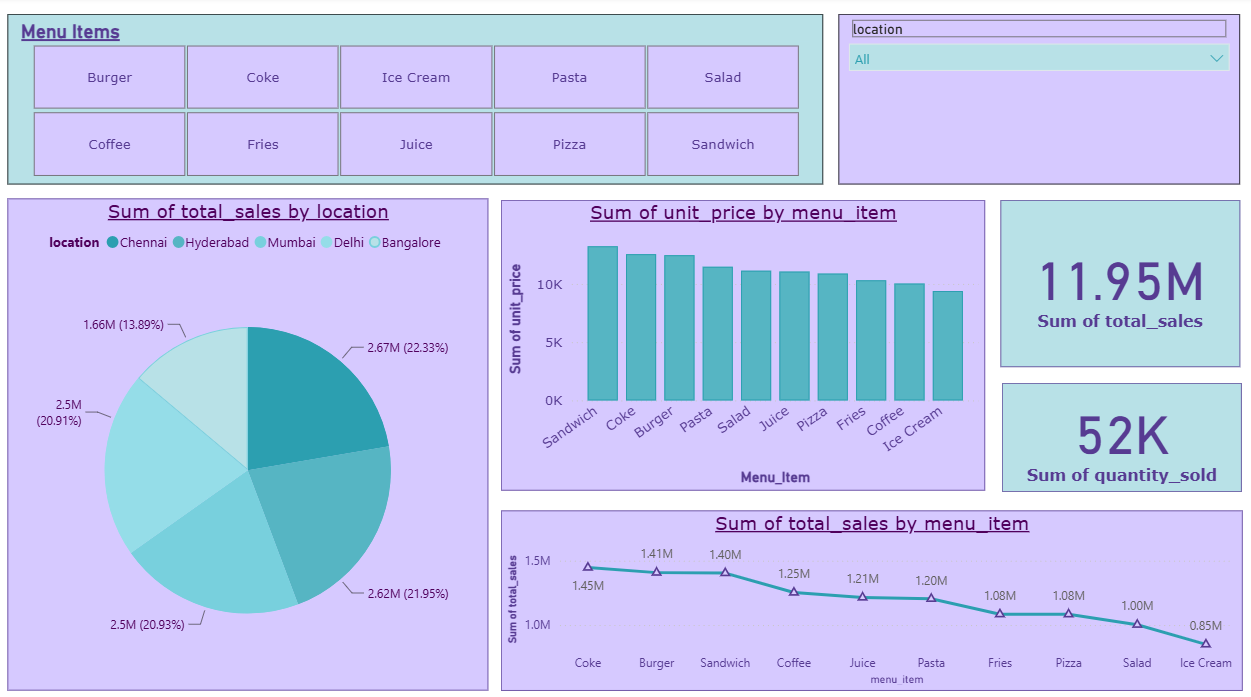

The page's visual inventory and layout, read from the dashboard file:
{"tool":"powerbi","page":{"name":"Page 1","canvas":[1280,720],"ordinal":0},"visuals":[{"type":"columnChart","fields":{"Category":["fnb_analytics restaurant_sales.menu_item"],"Y":["Sum(fnb_analytics restaurant_sales.unit_price)"]},"box":[508.3,206.7,488.3,293.3],"z":0},{"type":"lineChart","fields":{"Category":["fnb_analytics restaurant_sales.menu_item"],"Y":["Sum(fnb_analytics restaurant_sales.total_sales)"]},"box":[508.3,520,748.3,181.7],"z":1000},{"type":"pieChart","fields":{"Category":["fnb_analytics restaurant_sales.location"],"Y":["Sum(fnb_analytics restaurant_sales.total_sales)"]},"box":[10,205,485,496.7],"z":2000},{"type":"card","fields":{"Values":["Sum(fnb_analytics restaurant_sales.quantity_sold)"]},"box":[1015,390,241.7,110],"z":3000},{"type":"card","fields":{"Values":["Sum(fnb_analytics restaurant_sales.total_sales)"]},"box":[1013.3,206.7,241.7,168.3],"z":4000},{"type":"slicer","fields":{"Values":["fnb_analytics restaurant_sales.location"]},"box":[850,18.3,405,171.7],"z":5000},{"type":"slicer","fields":{"Values":["fnb_analytics restaurant_sales.menu_item"]},"box":[10,18.3,823.3,171.7],"z":6000}]}

Visuals, with their boxes in screenshot pixels (x1, y1, x2, y2), scaled from the page's 1280x720 canvas onto the 1251x697 screenshot:
columnChart - fnb_analytics restaurant_sales.menu_item x Sum(fnb_analytics restaurant_sales.unit_price): {"left": 497, "top": 200, "right": 974, "bottom": 484}
lineChart - fnb_analytics restaurant_sales.menu_item x Sum(fnb_analytics restaurant_sales.total_sales): {"left": 497, "top": 503, "right": 1228, "bottom": 679}
pieChart - fnb_analytics restaurant_sales.location x Sum(fnb_analytics restaurant_sales.total_sales): {"left": 10, "top": 198, "right": 484, "bottom": 679}
card - Sum(fnb_analytics restaurant_sales.quantity_sold): {"left": 992, "top": 378, "right": 1228, "bottom": 484}
card - Sum(fnb_analytics restaurant_sales.total_sales): {"left": 990, "top": 200, "right": 1227, "bottom": 363}
slicer - fnb_analytics restaurant_sales.location: {"left": 831, "top": 18, "right": 1227, "bottom": 184}
slicer - fnb_analytics restaurant_sales.menu_item: {"left": 10, "top": 18, "right": 814, "bottom": 184}
